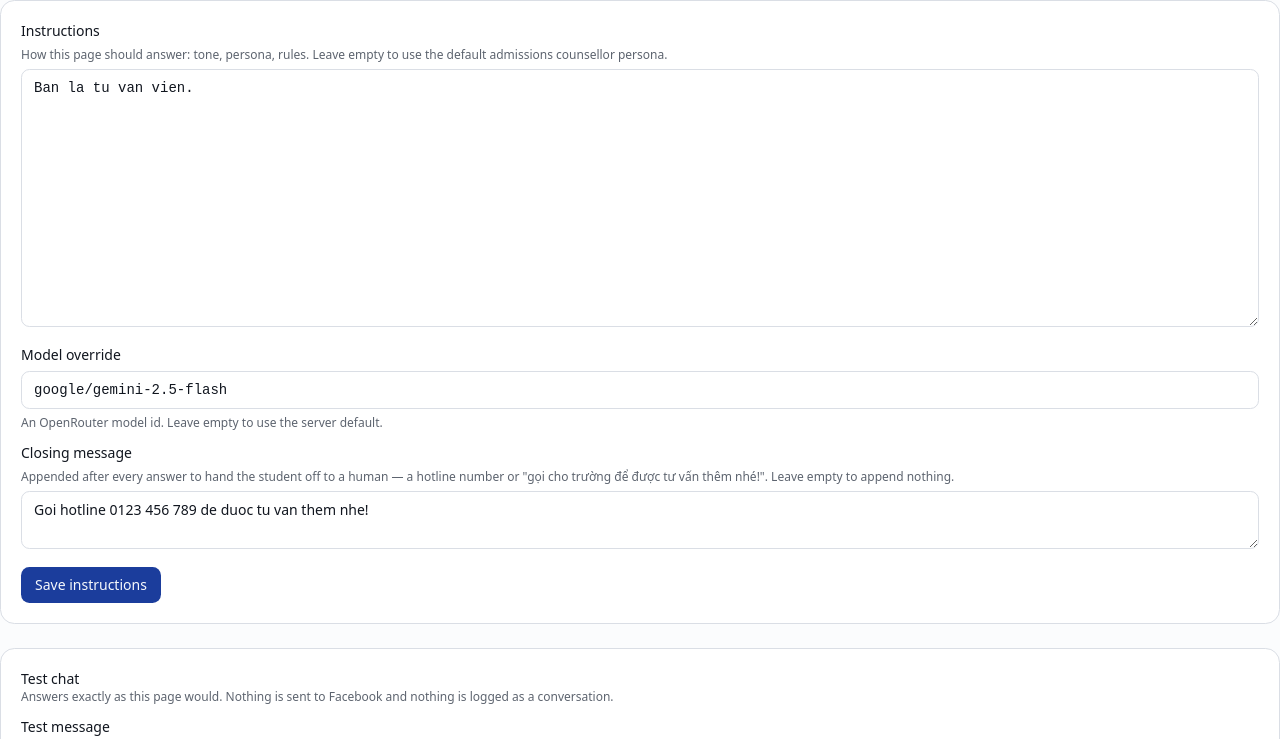
Scenario: InstructionsTab › shows the server error when saving fails
Click the button "Save instructions" at (91, 585), box [21,567,161,603]
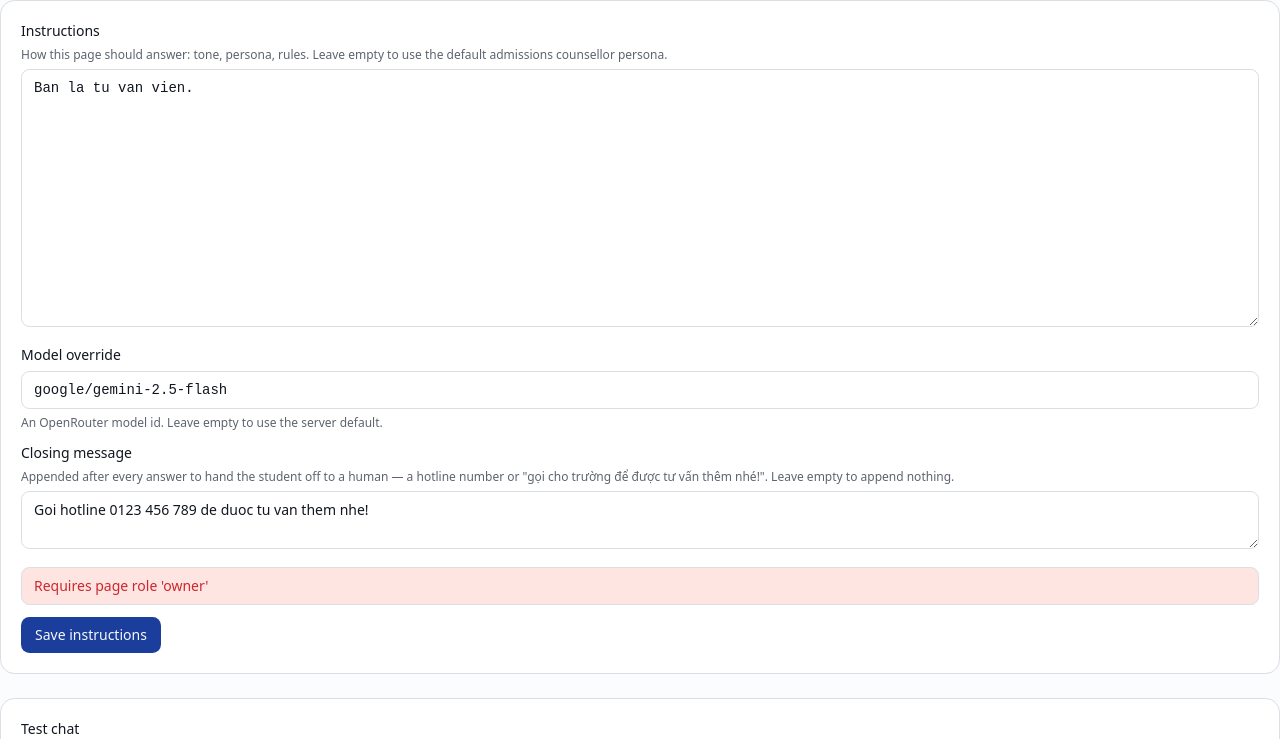
Check: the message reads "Requires page role 'owner'", box [34,576,208,595]
